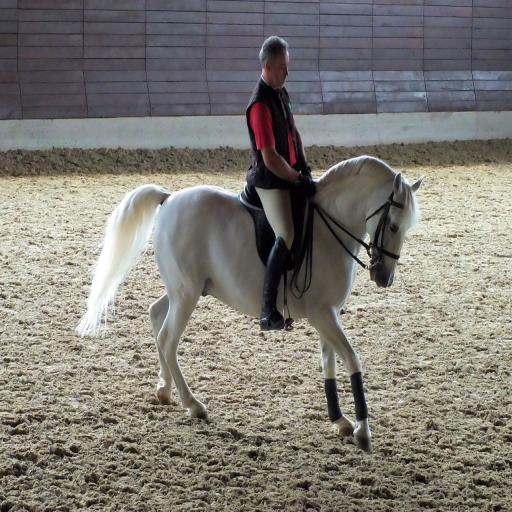horse: (70, 152, 426, 452)
